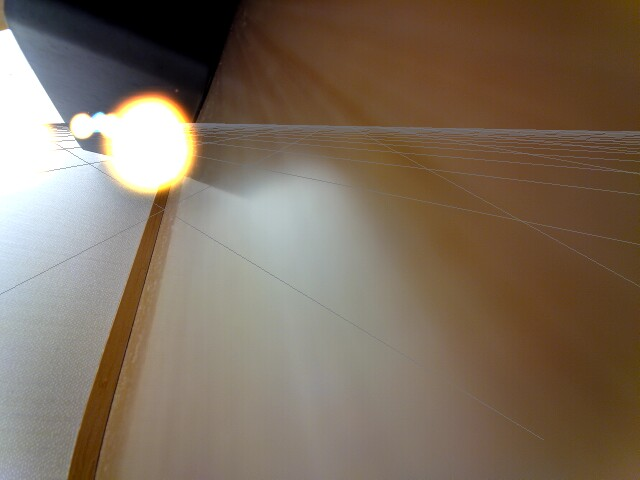firebig: (108, 89, 199, 195)
